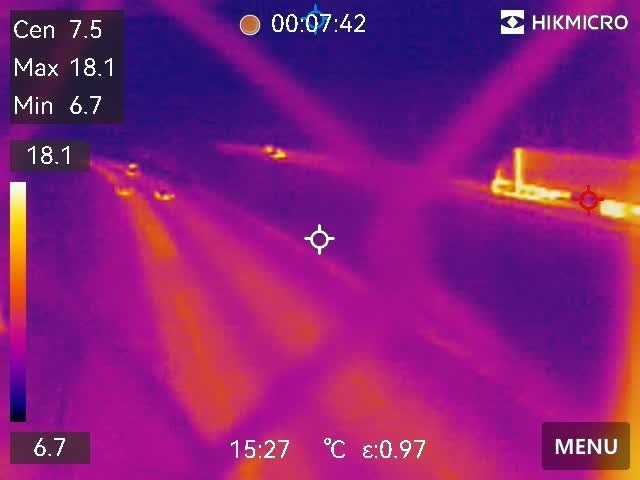heavyTruck: (491, 145, 640, 216)
